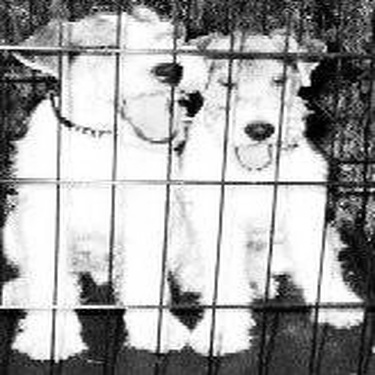dog: (1, 11, 208, 367), (172, 20, 370, 358)
